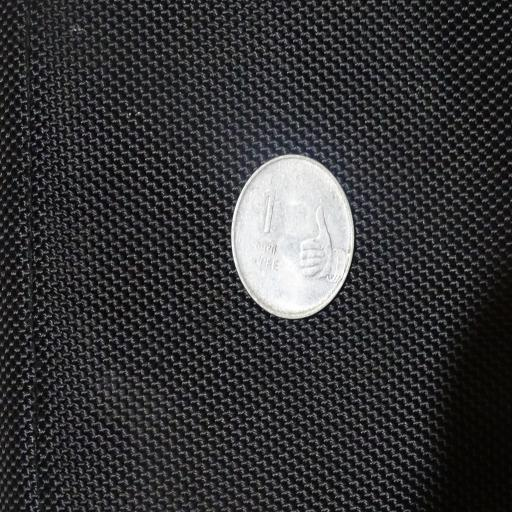rupee1: (231, 155, 356, 318)
